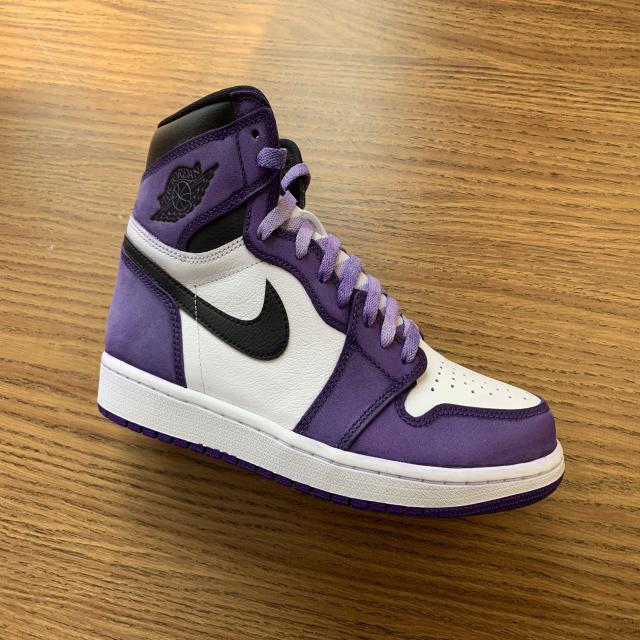shoe: (93, 79, 568, 516)
